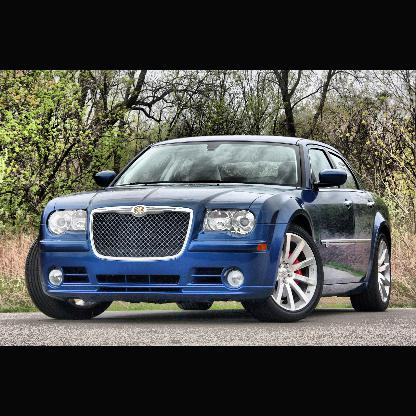Chrysler 300 SRT-8 2010: (15, 124, 400, 330)
